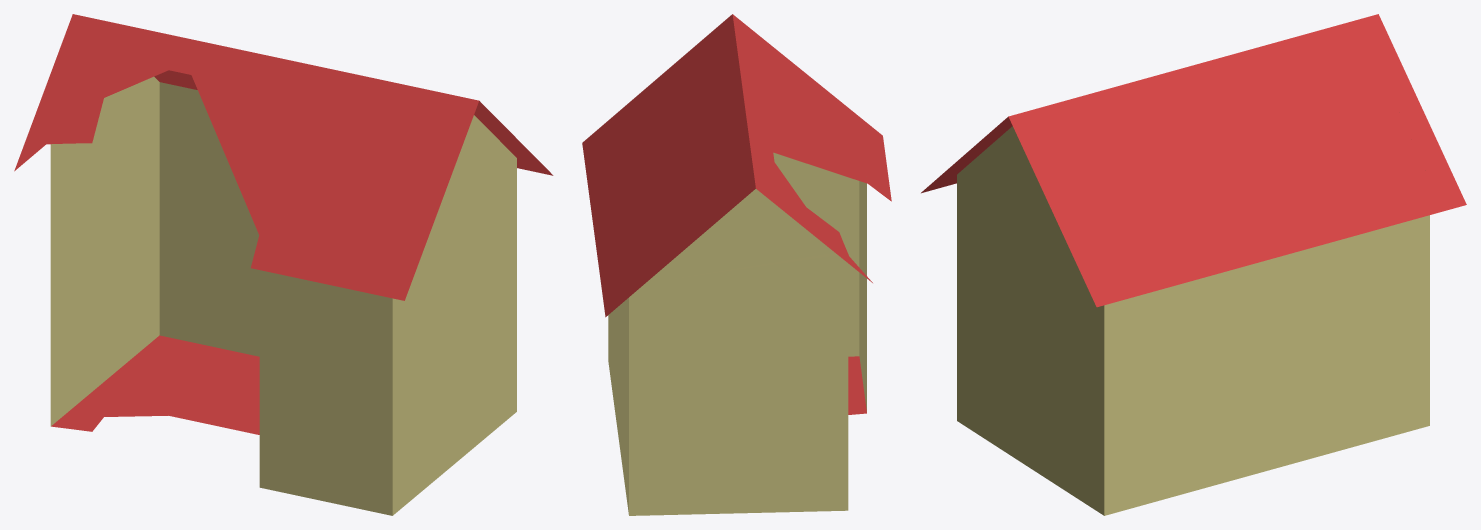
3 views of the same model, side by side, from view 1: azimuth 30°, elevation 25°; view 2: azimuth 150°, elevation 25°; view 3: azimuth 270°, elevation 25° (orthographic). The views are drawn at different scales.
Bounding box in the file's own units: 18.14 × 20.52 × 14.83.
